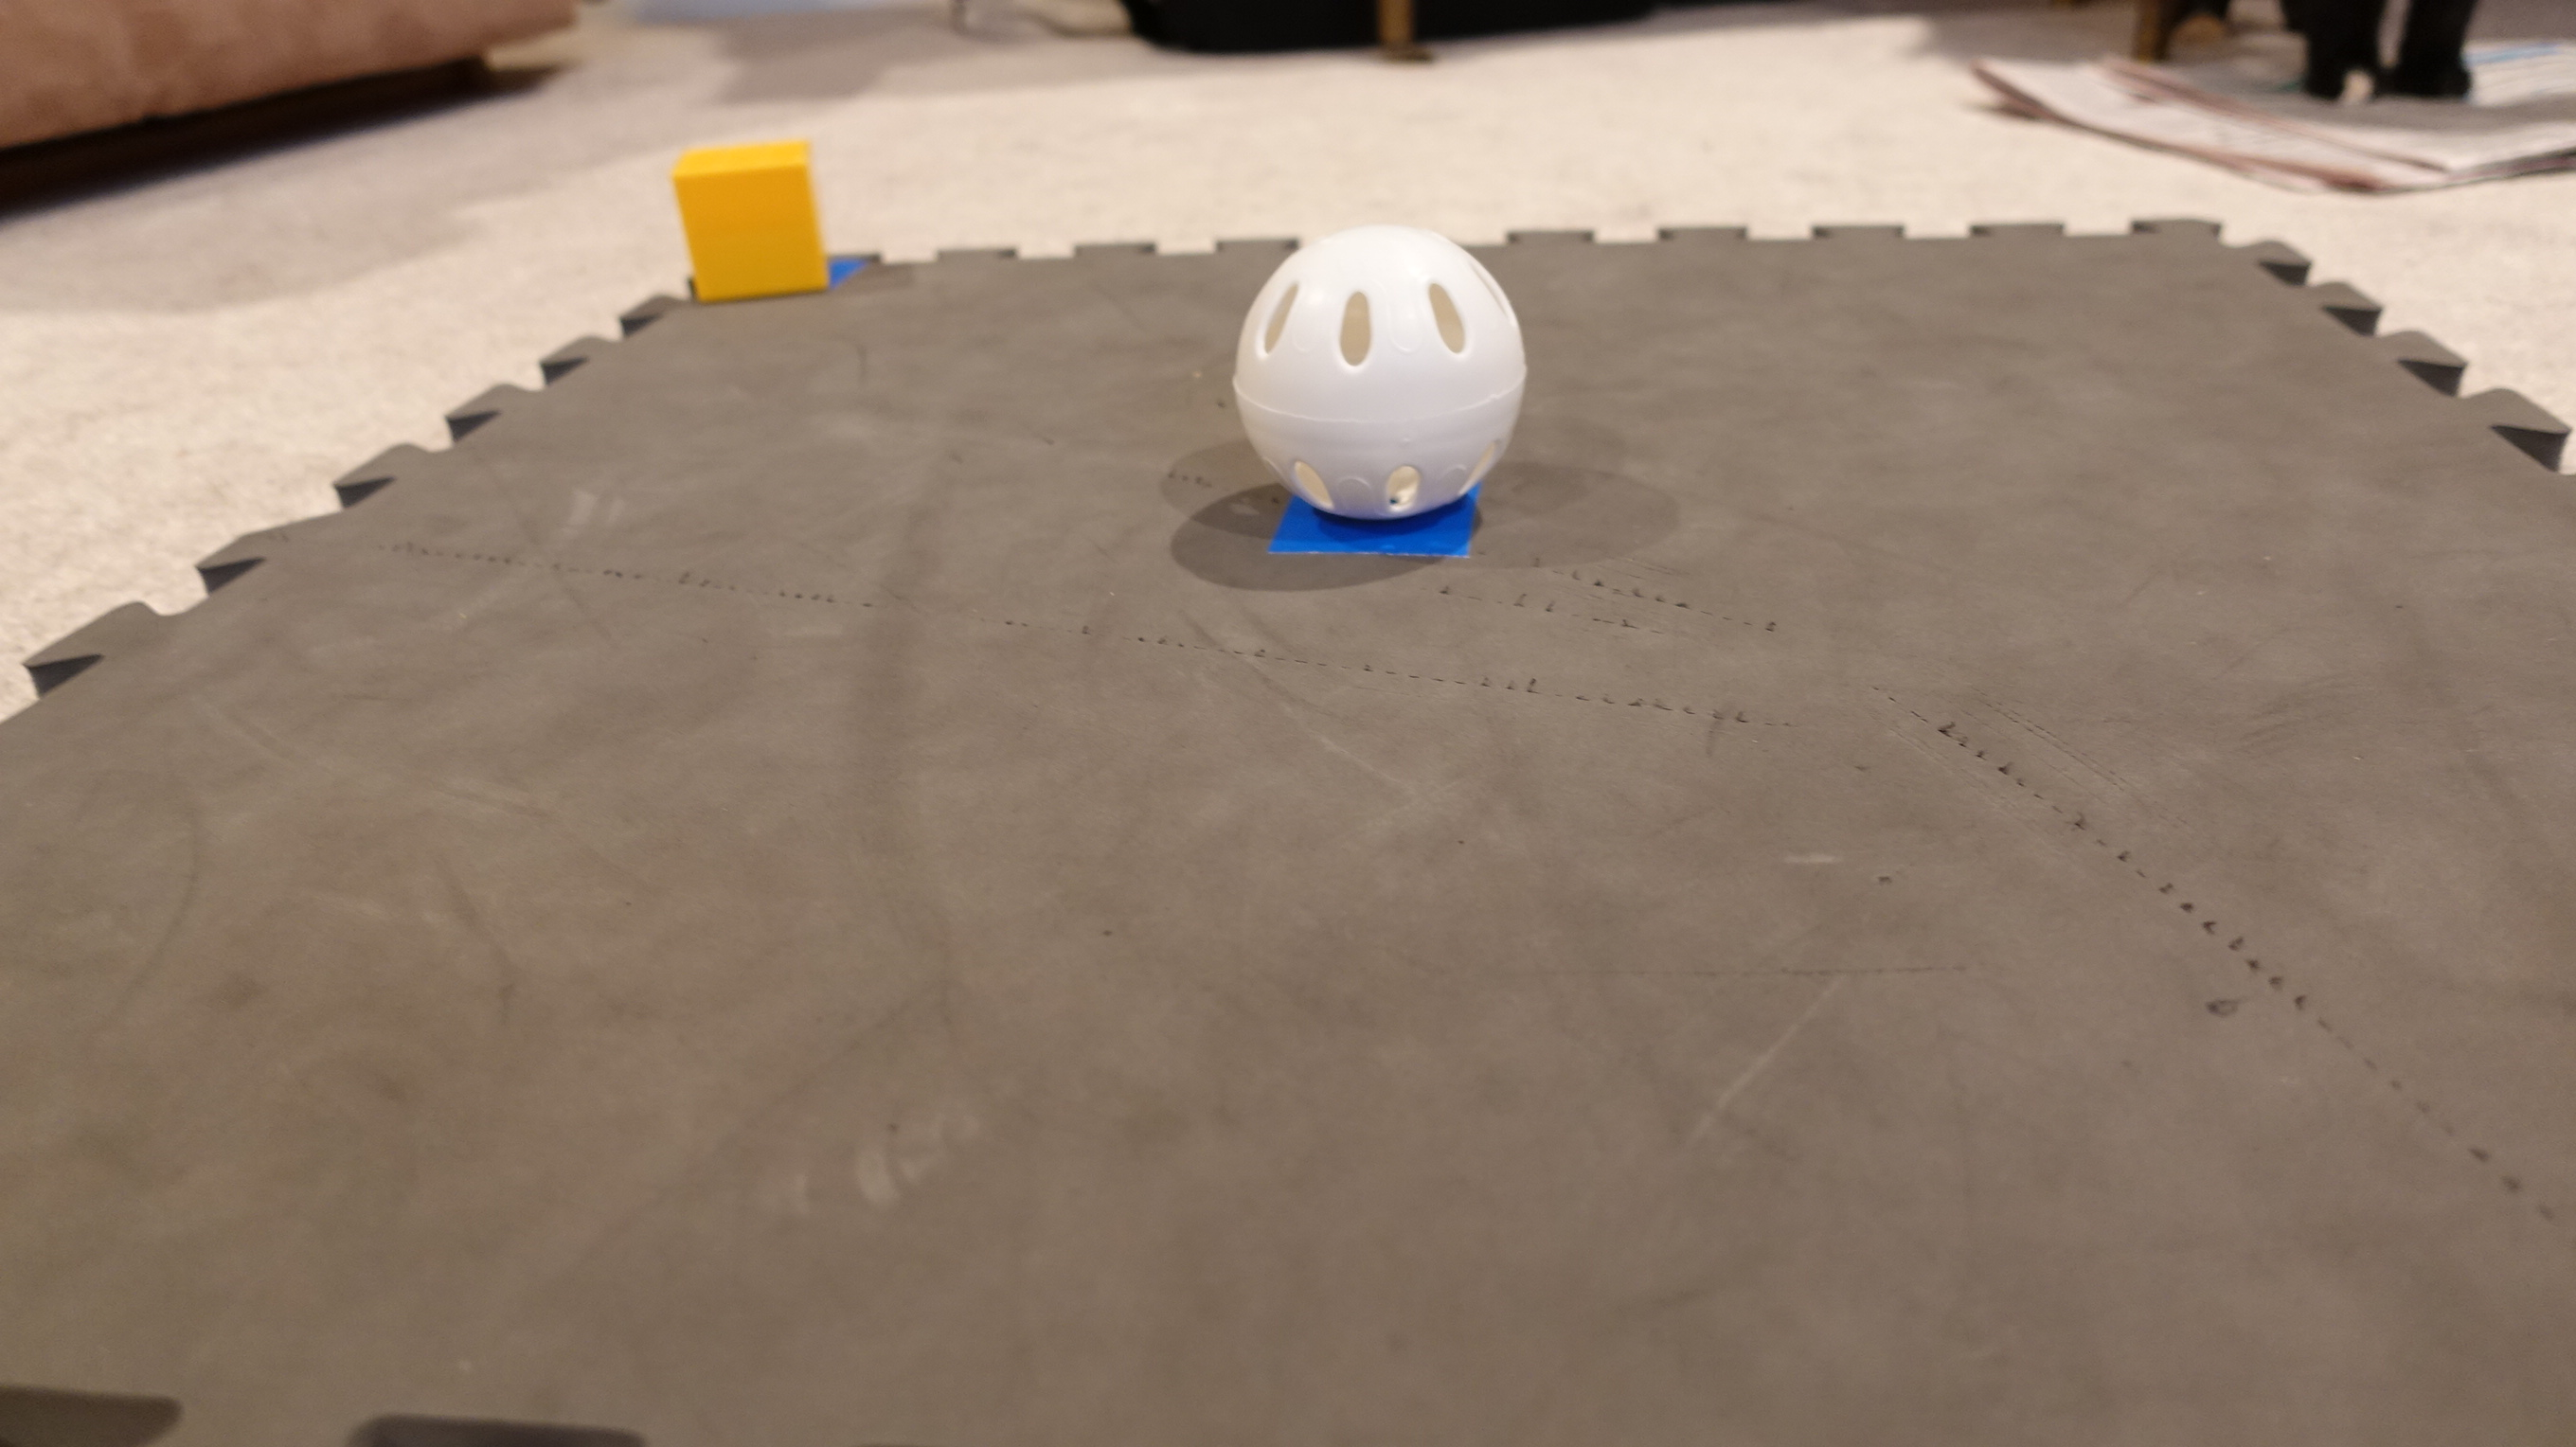gold: (660, 142, 833, 301)
silver: (1230, 225, 1525, 517)
